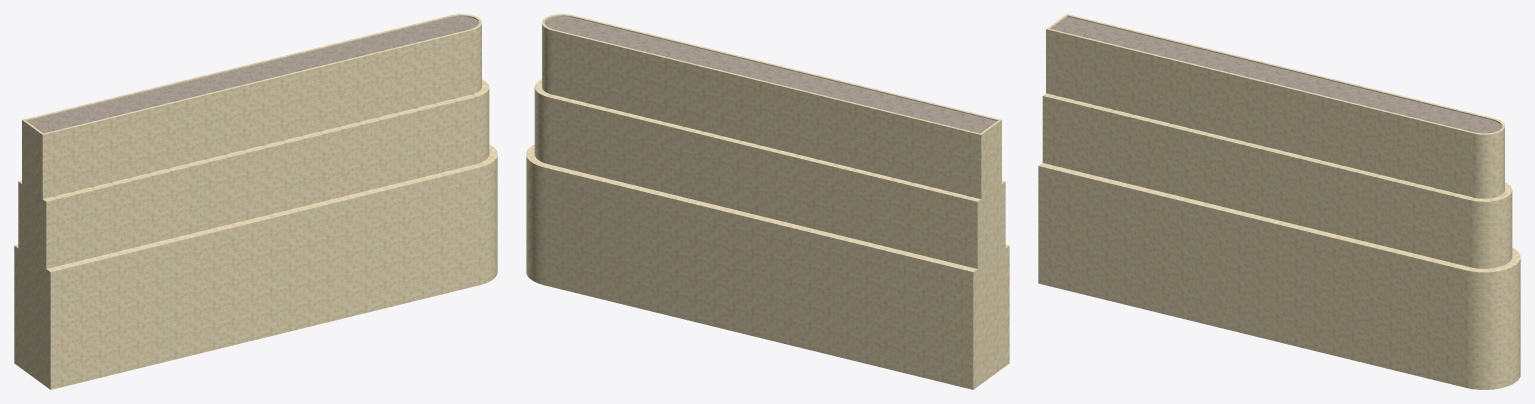
File: SM_Garden_huge.glb
The picture shows the model from 3 angles, left to right: view 1: azimuth 30°, elevation 25°; view 2: azimuth 150°, elevation 25°; view 3: azimuth 330°, elevation 25°; orthographic projection.
Visible parts, largest first — view 1: SM_Garden_huge; view 2: SM_Garden_huge; view 3: SM_Garden_huge.
Part boxes in pixels (left/top/right/bottom): SM_Garden_huge: left=14, top=14, right=497, bottom=389; SM_Garden_huge: left=526, top=14, right=1009, bottom=389; SM_Garden_huge: left=1038, top=14, right=1520, bottom=389.
Size of the model in its own units: 194 by 100 by 26.54.
2 materials, 2 textured.
